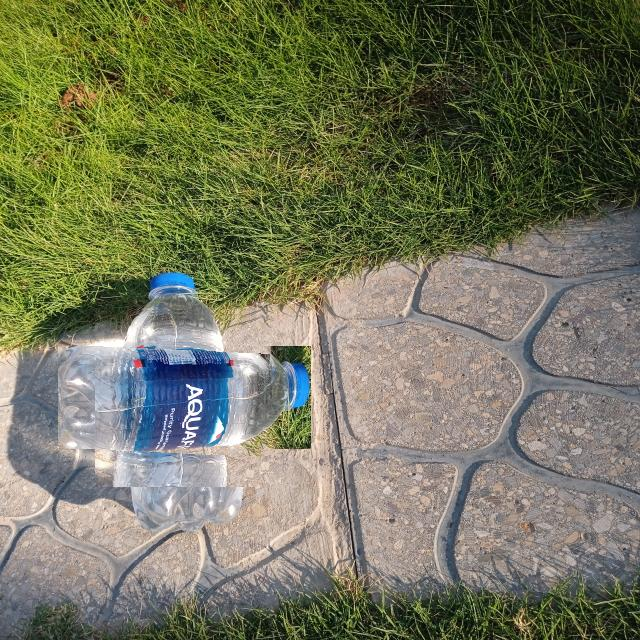Plastic: (95, 308, 274, 487)
